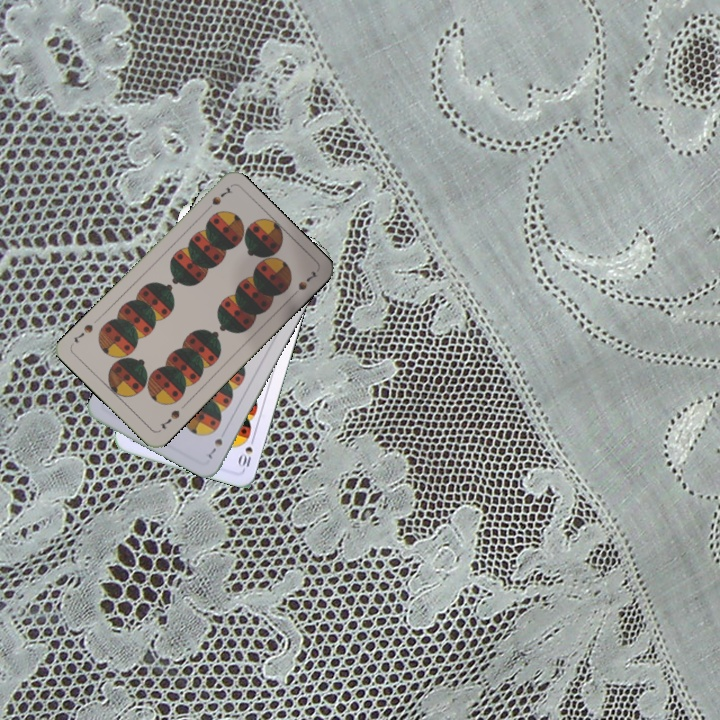S10: (235, 432, 257, 472)
S7: (201, 183, 235, 215), (156, 406, 182, 432), (201, 434, 225, 462)
